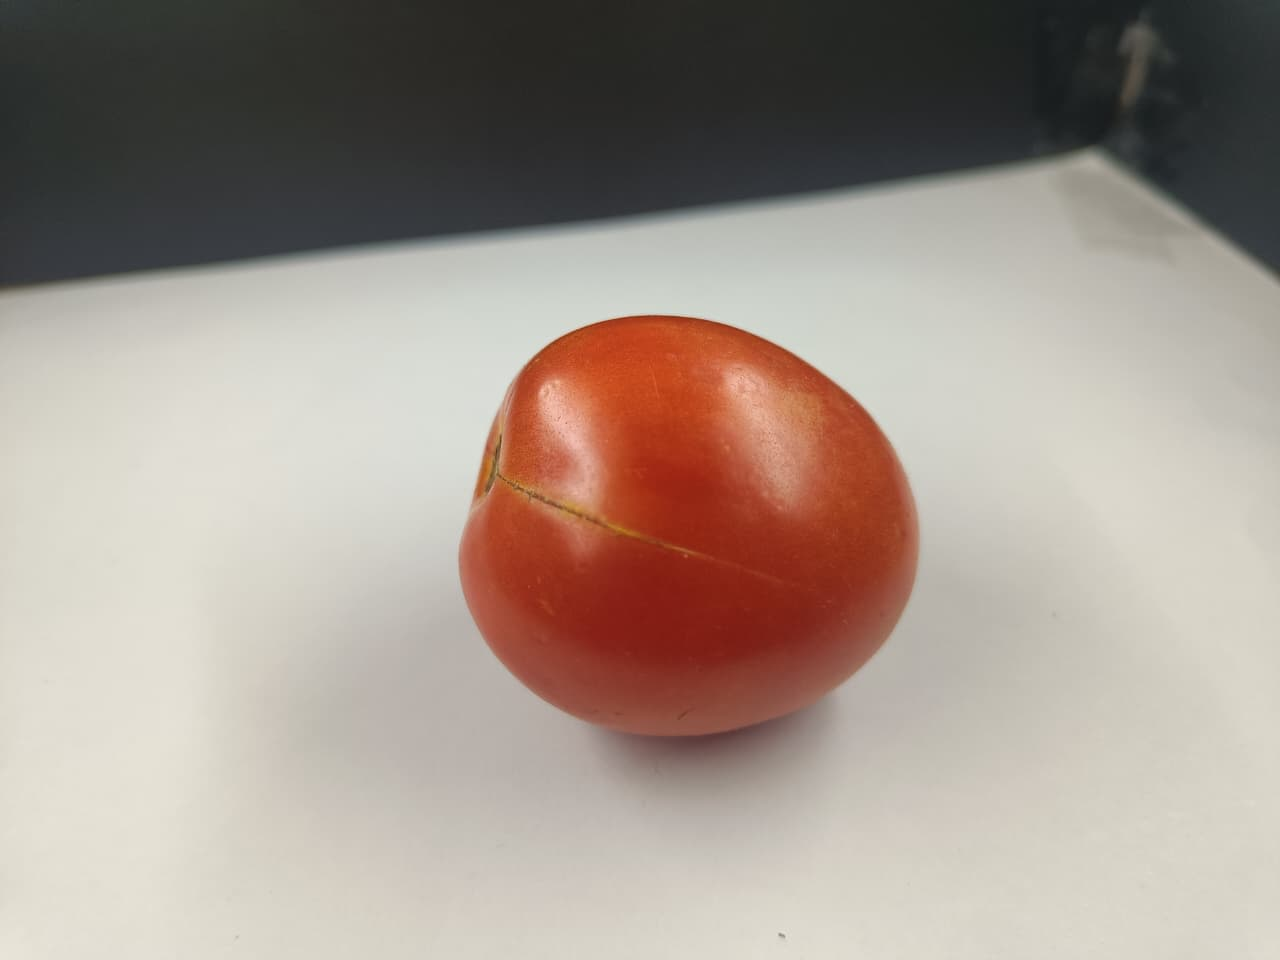ripe: (475, 311, 927, 769)
